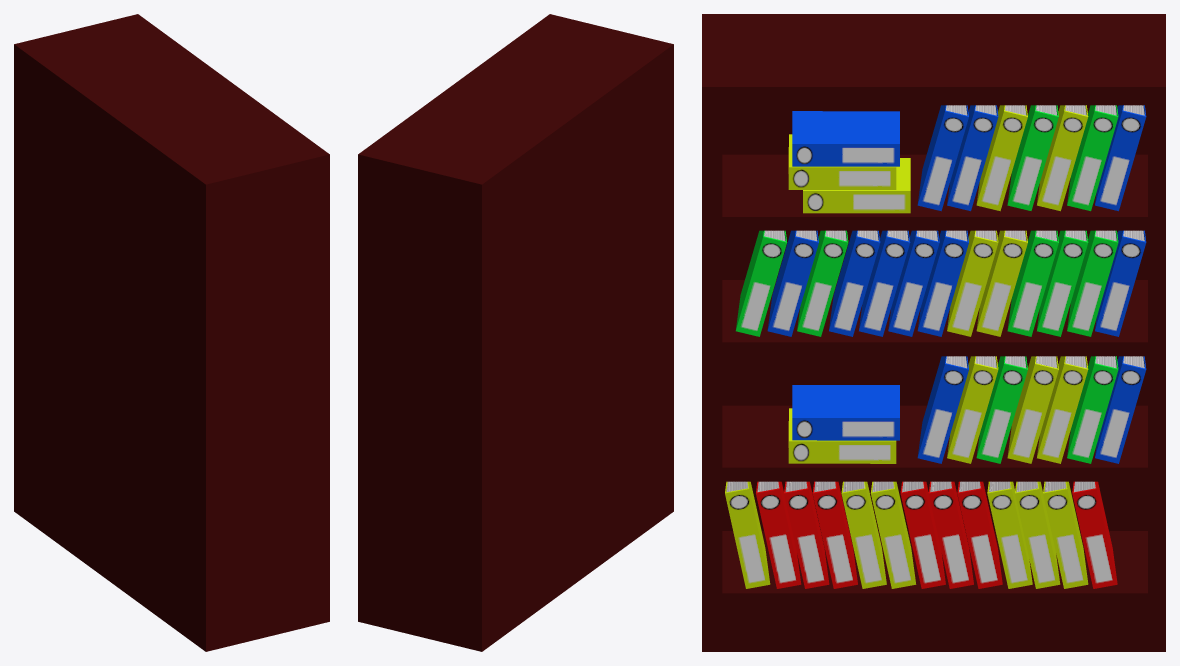
3 renders of one model, left to right at view 1: azimuth 30°, elevation 25°; view 2: azimuth 150°, elevation 25°; view 3: azimuth 270°, elevation 25°, orthographic. The views are drawn at different scales.
Visible parts, largest first — view 1: Electricity_videos_models:shelf_Electricity_videos_models:sh; view 2: Electricity_videos_models:shelf_Electricity_videos_models:sh; view 3: Electricity_videos_models:shelf_Electricity_videos_models:sh, Electricity_videos_models:yellow_file14_Electricity_videos_m, yellow_file14, blue_file12, Electricity_videos_models:blue_file_Electricity_videos_model, green_file8, Electricity_videos_models:green_file_Electricity_videos_mode, Electricity_videos_models:blue_file1_Electricity_videos_mode, Electricity_videos_models:blue_file12_Electricity_videos_mod, Electricity_videos_models:green_file3_Electricity_videos_mod, green_file9, Electricity_videos_models:green_file8_Electricity_videos_mod (+34 smaller).
Boxes of the visible parts, box(x1,y1,x2,y2) form: Electricity_videos_models:shelf_Electricity_videos_models:sh: box(14, 14, 329, 651); Electricity_videos_models:shelf_Electricity_videos_models:sh: box(358, 14, 673, 651); Electricity_videos_models:shelf_Electricity_videos_models:sh: box(702, 14, 1165, 651); Electricity_videos_models:yellow_file14_Electricity_videos_m: box(792, 111, 899, 166); yellow_file14: box(792, 385, 899, 440); blue_file12: box(917, 356, 968, 463); Electricity_videos_models:blue_file_Electricity_videos_model: box(767, 230, 818, 336); green_file8: box(1007, 356, 1058, 463); Electricity_videos_models:green_file_Electricity_videos_mode: box(735, 230, 787, 336); Electricity_videos_models:blue_file1_Electricity_videos_mode: box(829, 230, 880, 336); Electricity_videos_models:blue_file12_Electricity_videos_mod: box(917, 105, 968, 211); Electricity_videos_models:green_file3_Electricity_videos_mod: box(1007, 230, 1058, 336); green_file9: box(1067, 356, 1118, 463); Electricity_videos_models:green_file8_Electricity_videos_mod: box(1007, 105, 1058, 210).
Bounding box in the file's own units: 0.5282 × 1.9 × 1.42.
5 materials, 4 textured.
